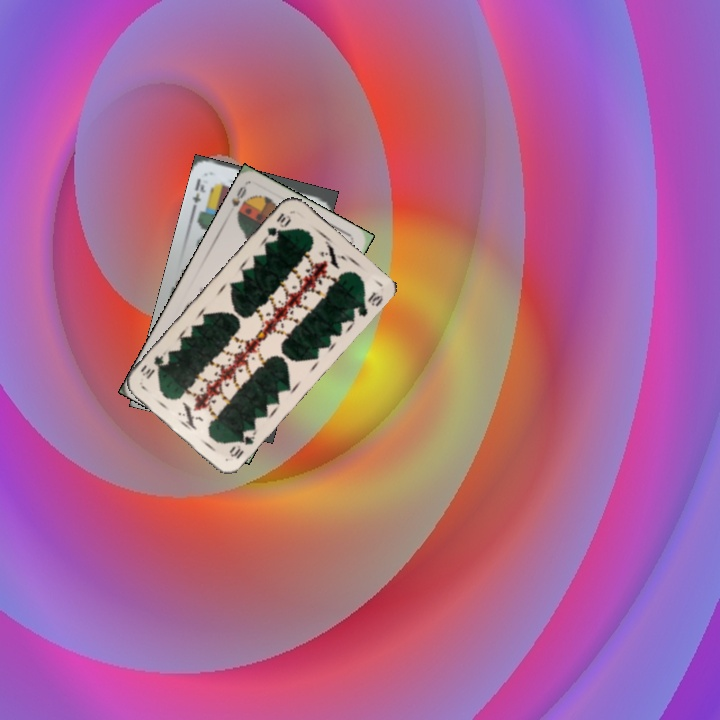EK: (188, 174, 208, 211)
G10: (225, 425, 258, 462), (263, 209, 294, 239)
SO: (227, 182, 249, 210)
